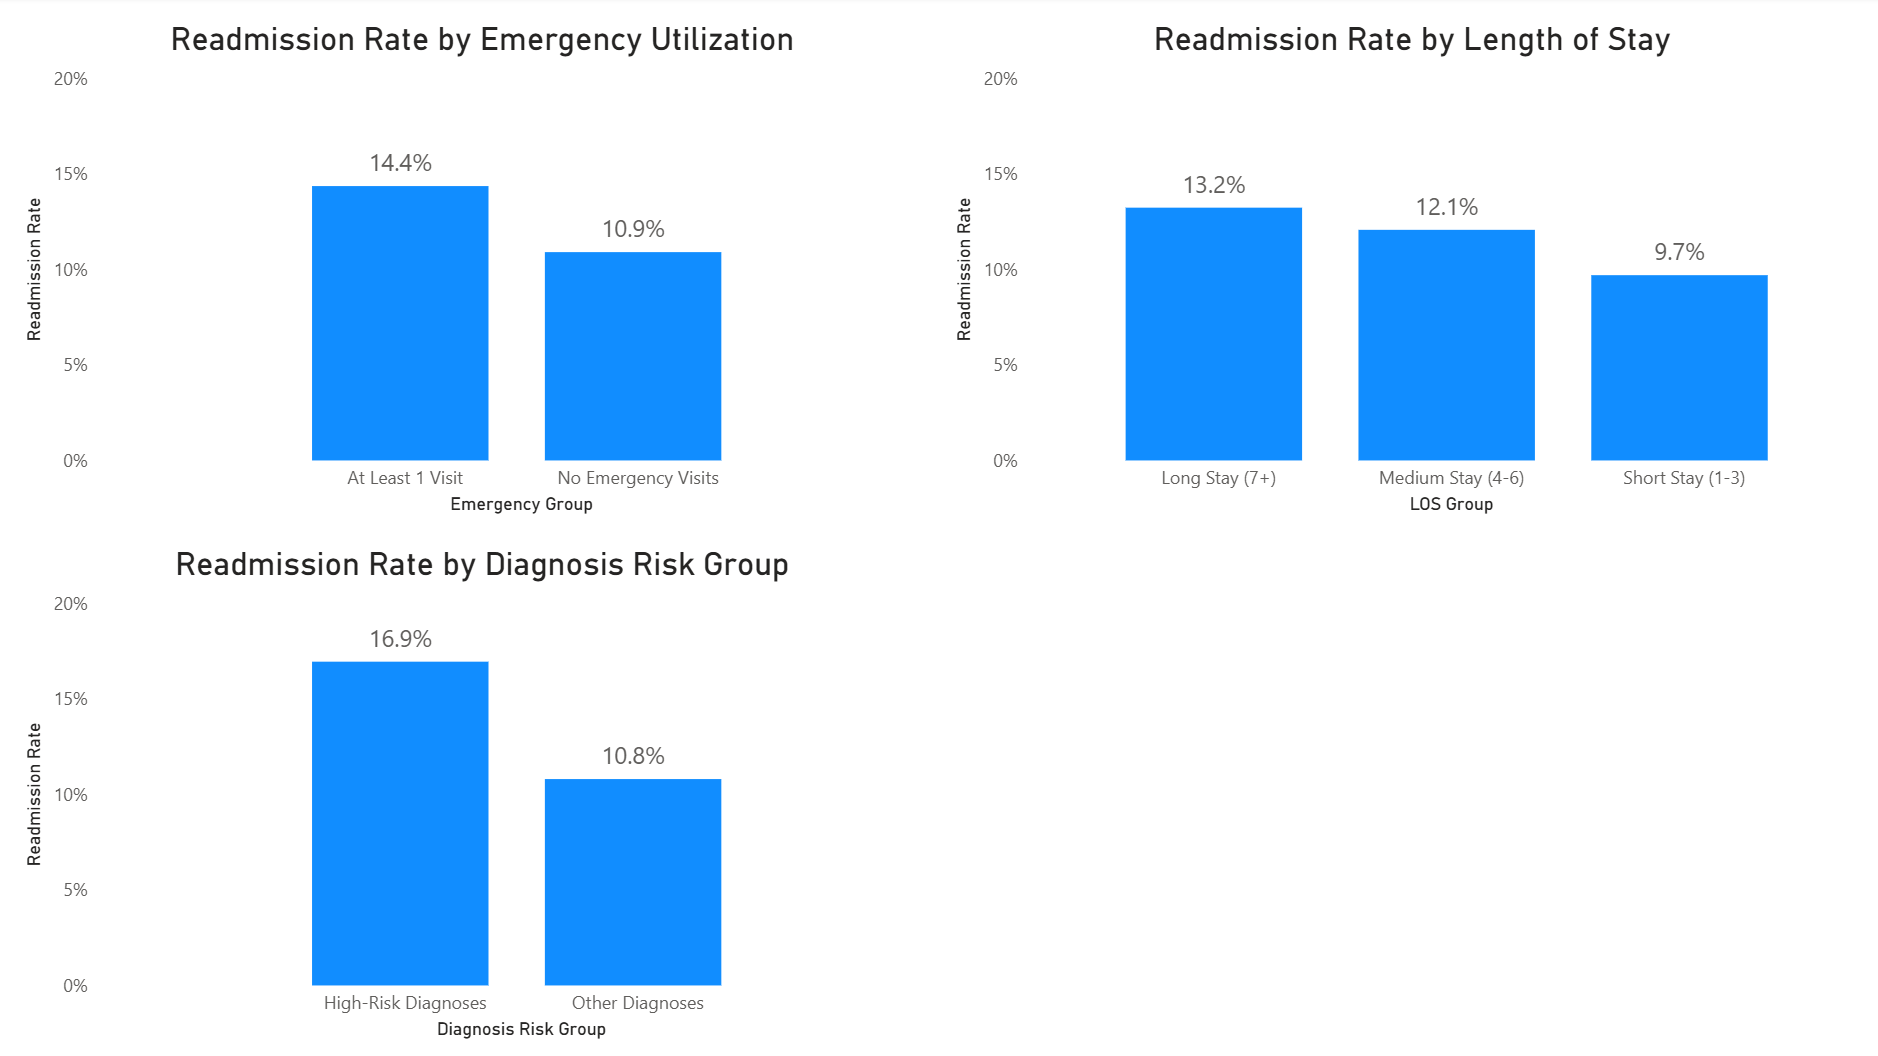

What the dashboard file says about the page in this screenshot:
{"tool":"powerbi","page":{"name":"Risk Drivers","canvas":[1280,720],"ordinal":1},"visuals":[{"type":"clusteredColumnChart","title":"Readmission Rate by Emergency Utilization","fields":{"Category":["v_readmission_analysis.Emergency Group"],"Y":["v_readmission_analysis.Readmission Rate"]},"box":[16,16,624,336],"z":0},{"type":"clusteredColumnChart","title":"Readmission Rate by Length of Stay","fields":{"Category":["v_readmission_analysis.LOS Group"],"Y":["v_readmission_analysis.Readmission Rate"]},"box":[640,16,624,336],"z":1},{"type":"clusteredColumnChart","title":"Readmission Rate by Diagnosis Risk Group","fields":{"Category":["v_readmission_analysis.Diagnosis Risk Group"],"Y":["v_readmission_analysis.Readmission Rate"]},"box":[16,368,624,336],"z":2}]}

Visuals, with their boxes in screenshot pixels (x1, y1, x2, y2), scaled from the page's 1280x720 canvas onto the 1878x1056 screenshot:
"Readmission Rate by Emergency Utilization" clusteredColumnChart: bbox=(23, 23, 939, 516)
"Readmission Rate by Length of Stay" clusteredColumnChart: bbox=(939, 23, 1855, 516)
"Readmission Rate by Diagnosis Risk Group" clusteredColumnChart: bbox=(23, 540, 939, 1033)
